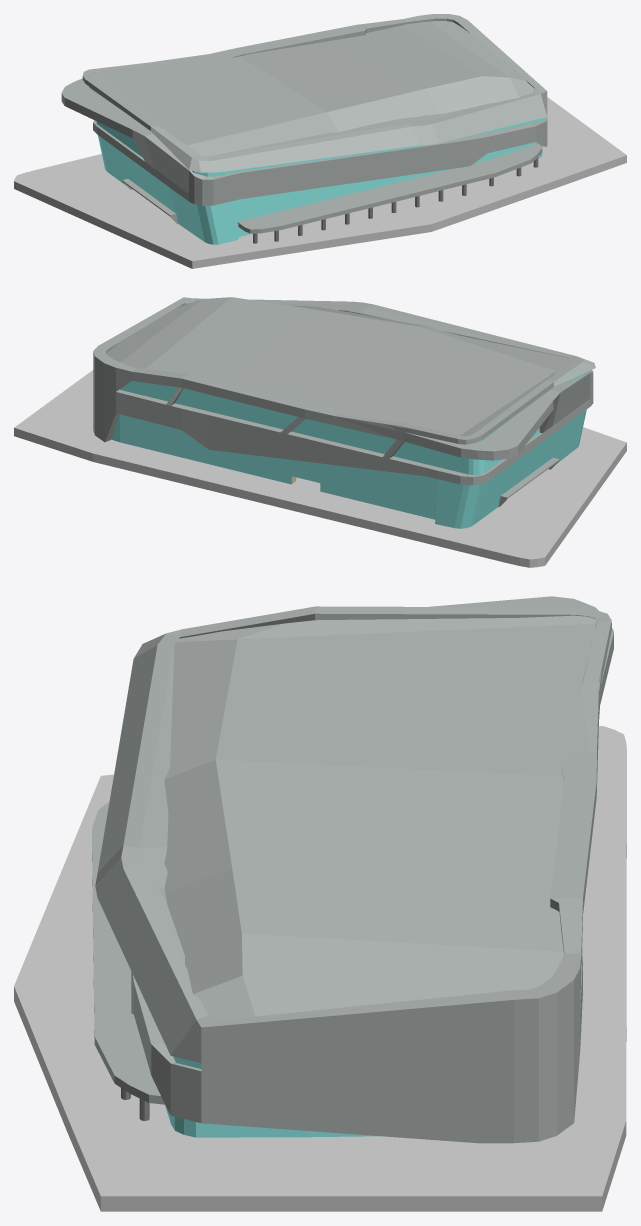
File: gym1_1_2.gltf
3 views of the same model, one above another, from view 1: azimuth 30°, elevation 25°; view 2: azimuth 150°, elevation 25°; view 3: azimuth 270°, elevation 25° (orthographic). The views are drawn at different scales.
Visible parts, largest first — view 1: roof_cover, roof, base, 1f_glass, 2f_floor, 큐브, pile, enter_roof; view 2: roof_cover, roof, base, 1f_glass, 큐브, enter_roof; view 3: roof_cover, roof, base, 2f_floor, 1f_glass.
Part boxes in pixels (x1,y1,x2,y2): roof_cover: (91, 21, 534, 156); roof: (61, 14, 547, 205); base: (14, 97, 626, 268); 1f_glass: (98, 135, 542, 244); 2f_floor: (237, 143, 542, 233); 큐브: (89, 87, 544, 176); pile: (253, 157, 538, 243); enter_roof: (122, 179, 178, 223); roof_cover: (106, 297, 574, 436); roof: (93, 297, 595, 485); base: (14, 370, 626, 567); 1f_glass: (111, 410, 586, 528); 큐브: (119, 371, 589, 474); enter_roof: (498, 457, 559, 506); roof_cover: (158, 615, 601, 1019); roof: (95, 596, 613, 1143); base: (14, 726, 626, 1211); 2f_floor: (92, 802, 164, 1104); 1f_glass: (165, 1105, 379, 1137).
Bounding box in the file's own units: 132 × 25.85 × 72.87.
